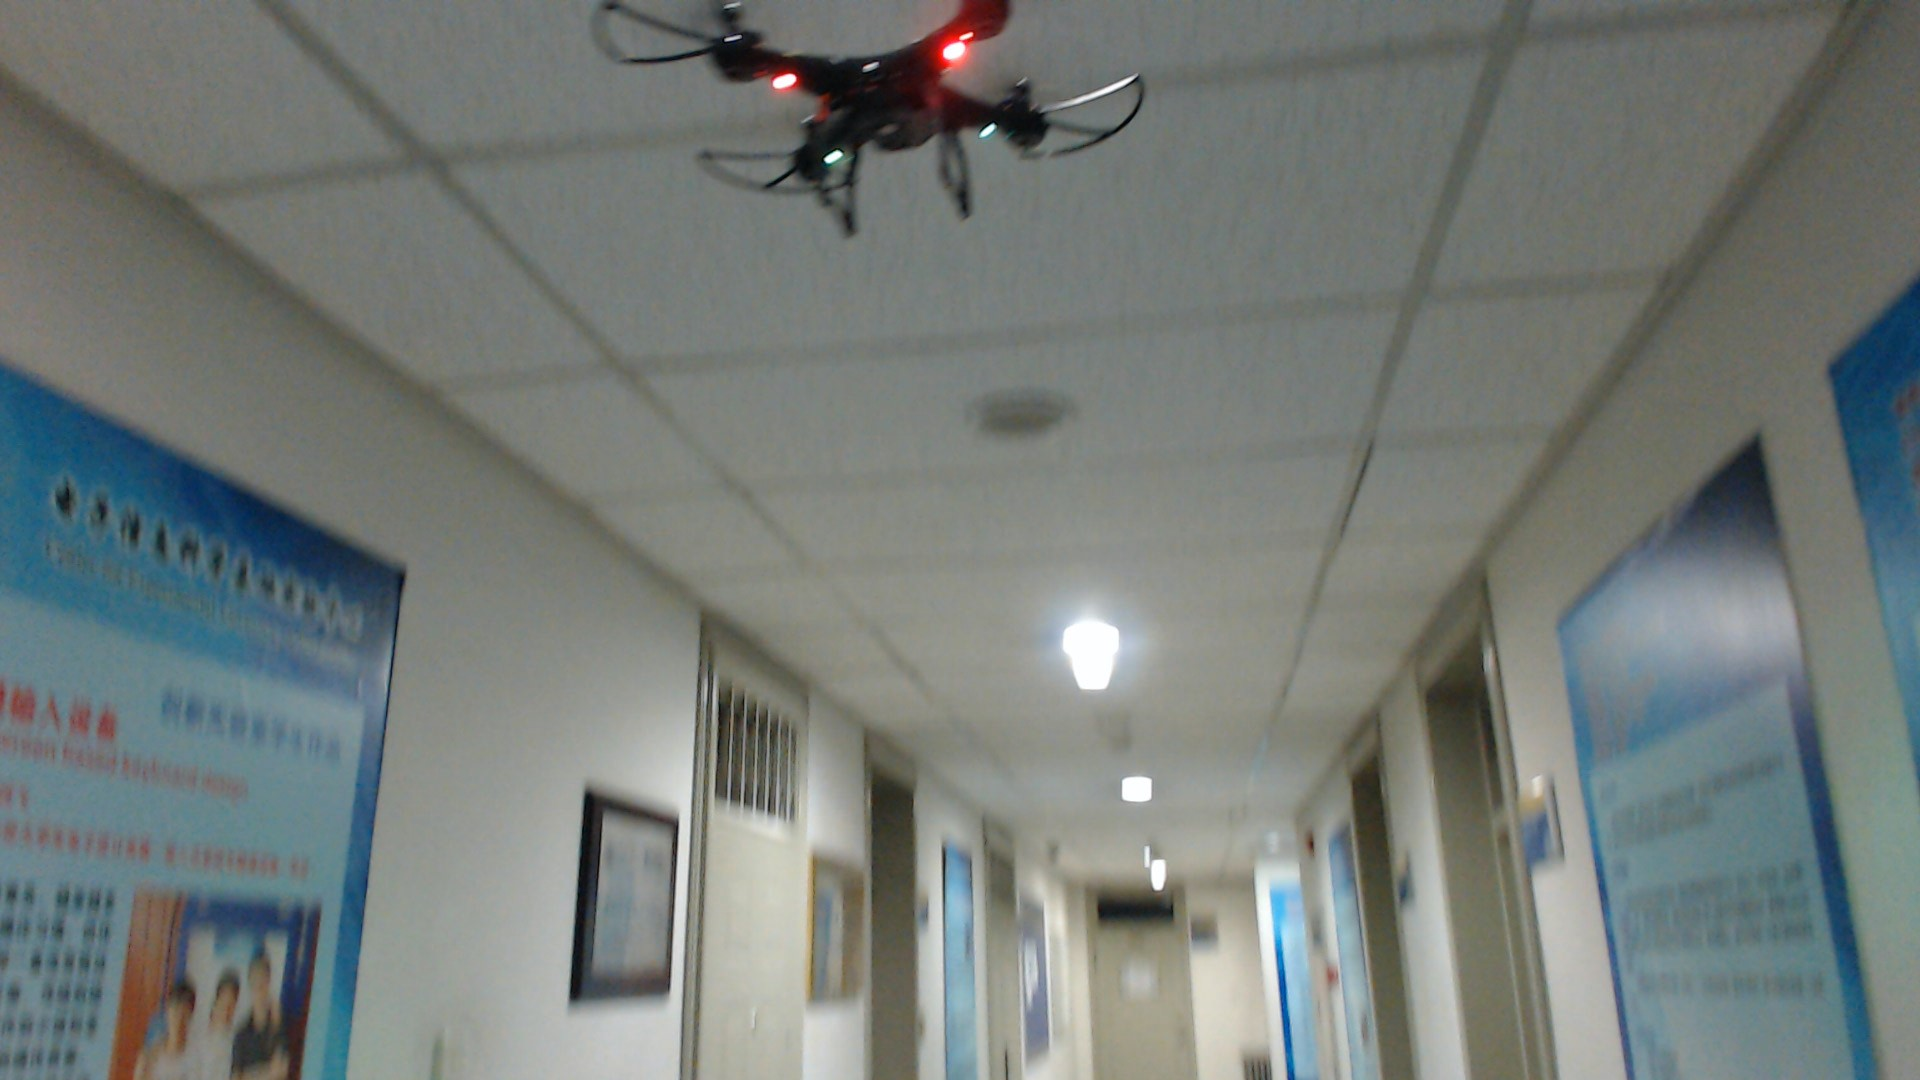drone: (585, 1, 1150, 244)
